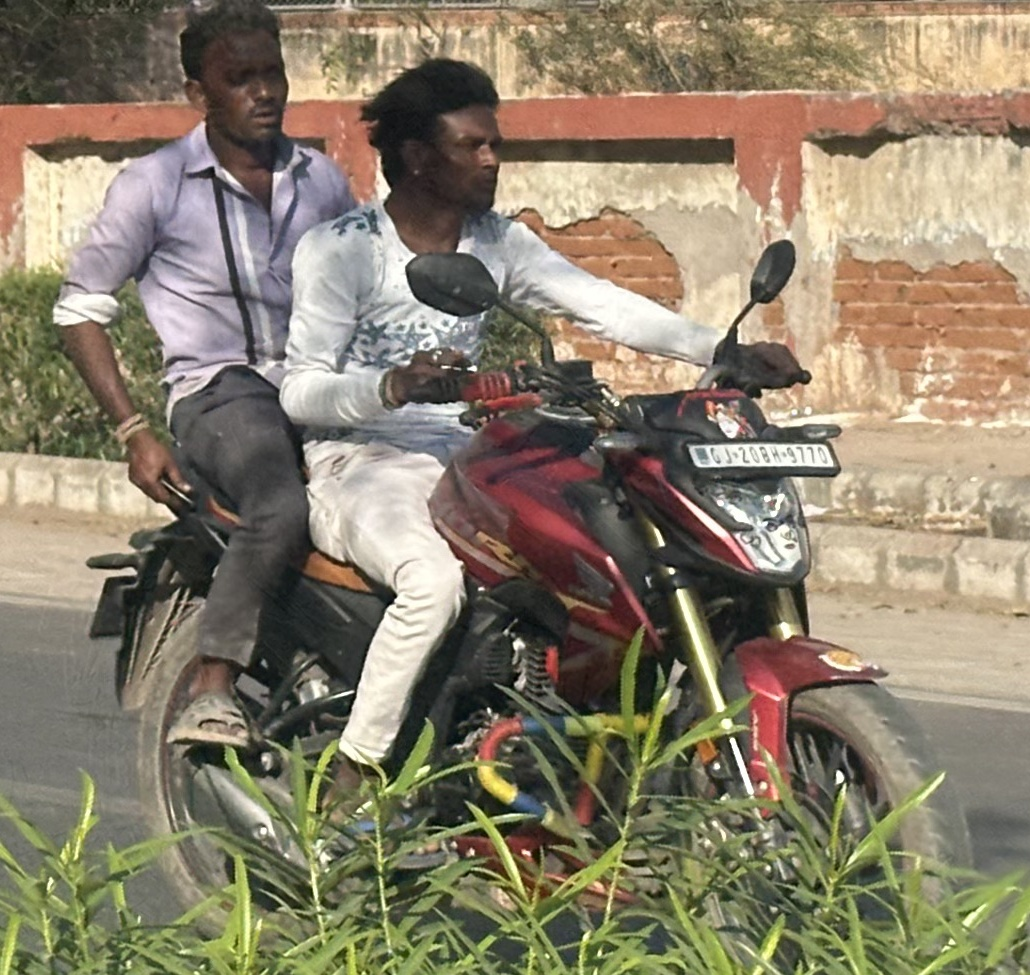BikeWithRider: (30, 0, 997, 974)
NoHelmet: (351, 48, 522, 218), (159, 0, 310, 161)
